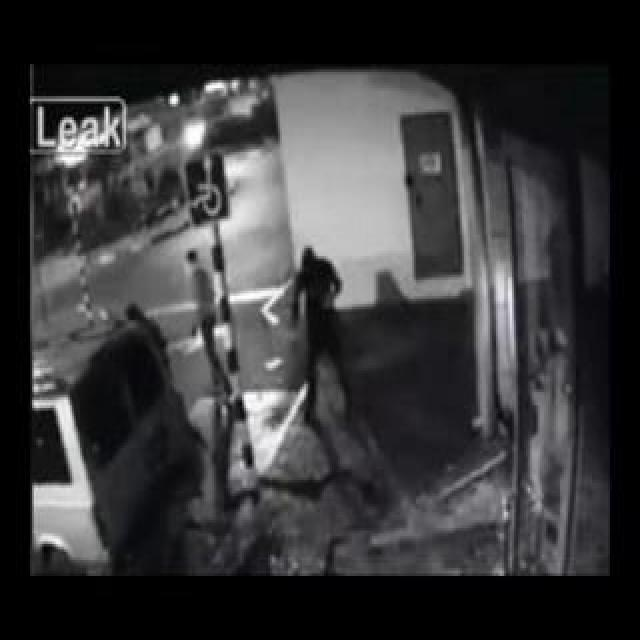thief: (274, 220, 364, 367), (164, 230, 223, 354)
